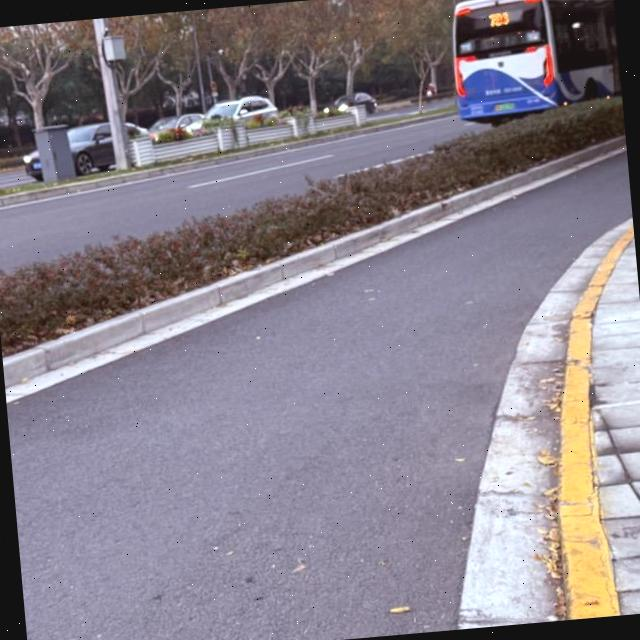curb: (2, 136, 624, 387), (0, 109, 452, 208), (557, 223, 633, 619)
